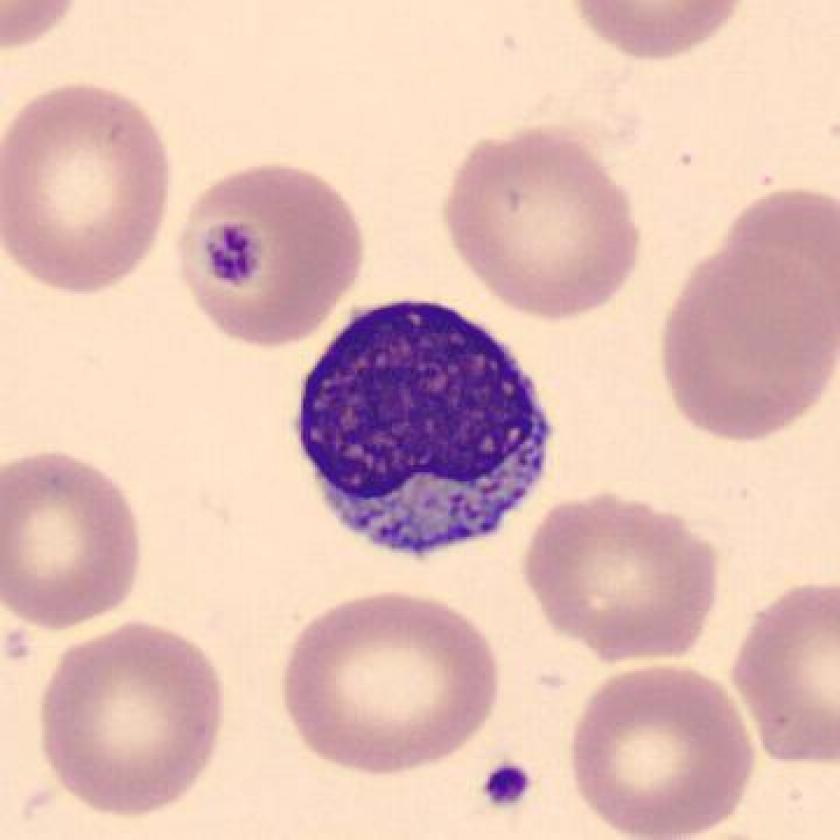lymphocyte: (279, 295, 563, 568)
